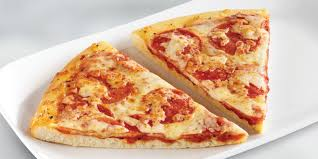pizza: (35, 20, 275, 159)
